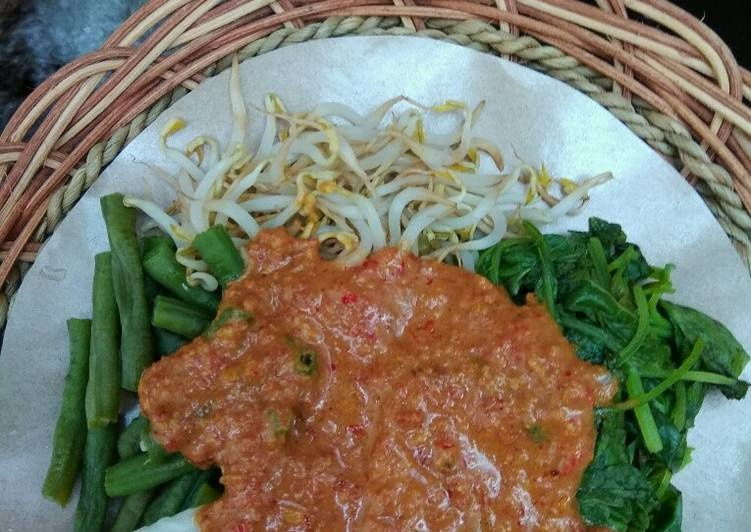pecel: (79, 107, 678, 525)
